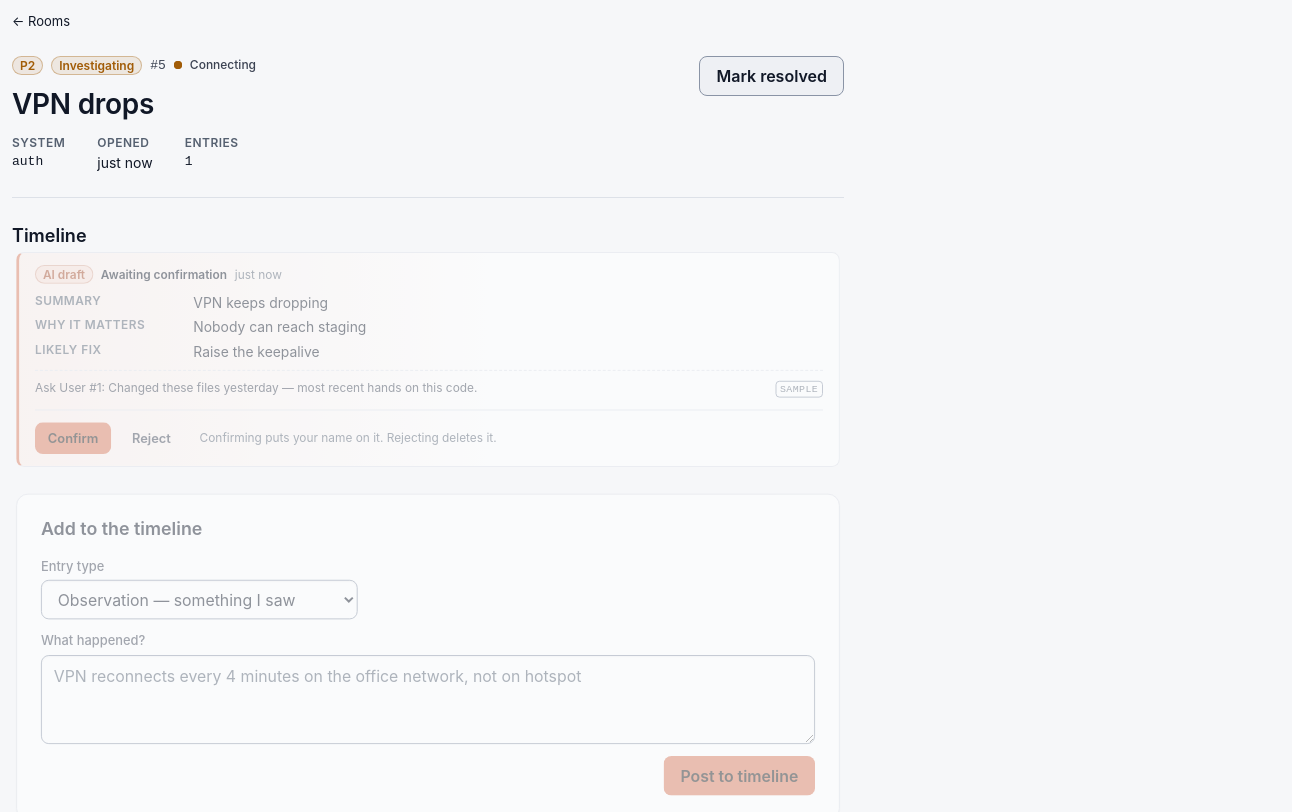
Test: RoomDetailsPage › AI drafts › refetches the timeline when someone else already confirmed the draft
Expected: the heading "VPN drops" is shown, [12, 87, 154, 121]
Click the button with aria-label "Confirm AI draft 1": (73, 438) [35, 422, 111, 454]
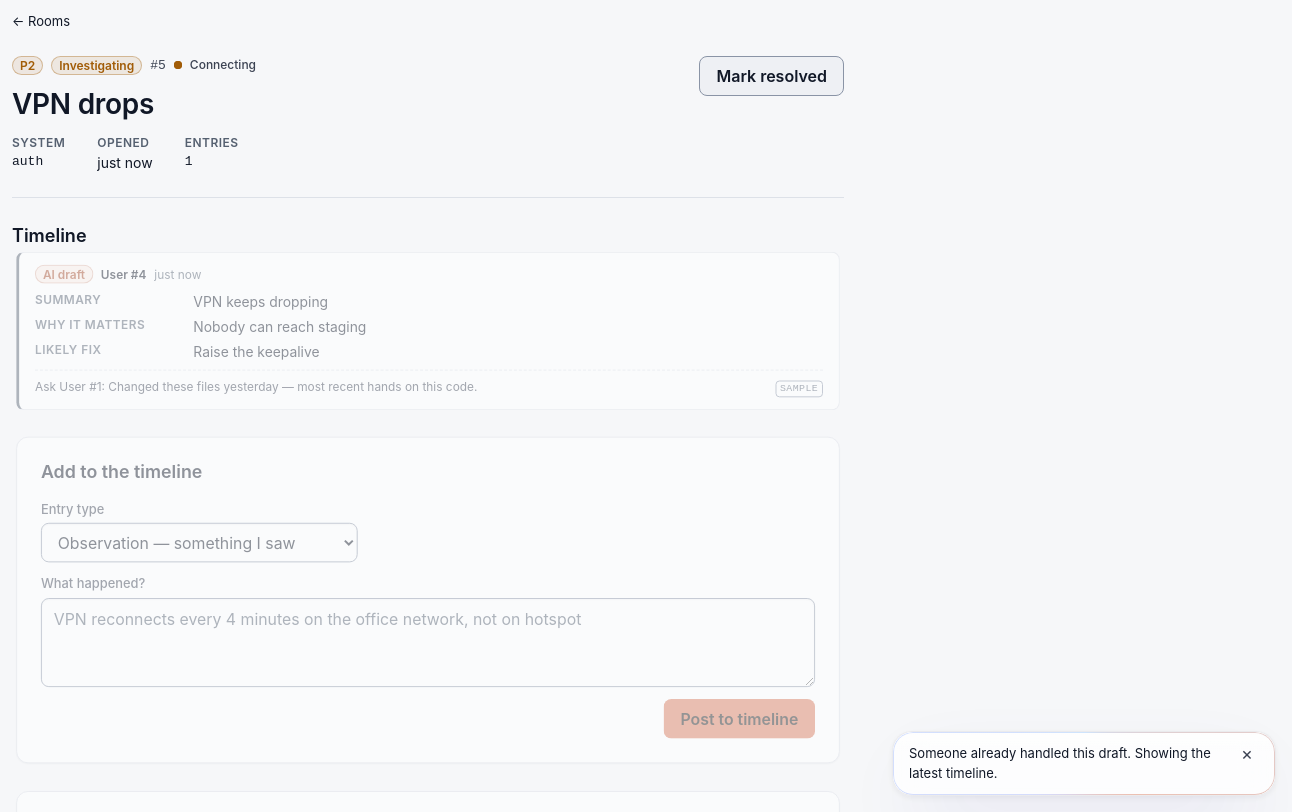
Result: the text "Someone already handled this draft. Showing the latest timeline." is shown at [909, 744, 1223, 783]
Result: the text "User #4" is shown at [101, 265, 146, 283]
